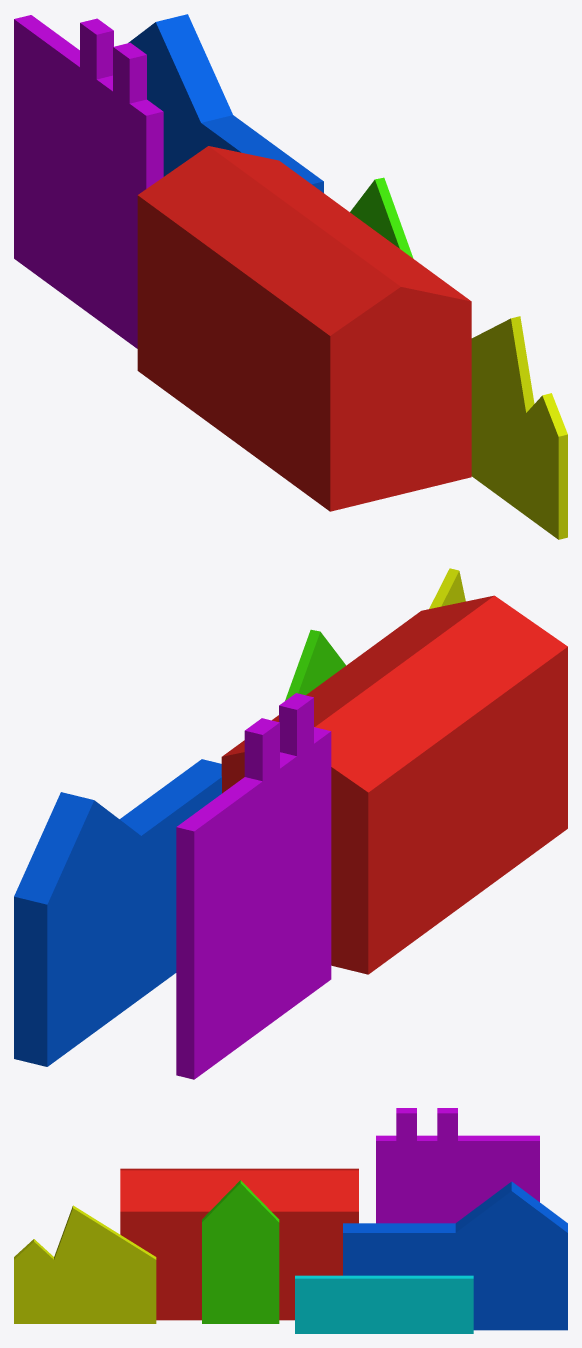
Rendered from Buildings.fbx.
3 renders of one model, top to bottom at view 1: azimuth 30°, elevation 25°; view 2: azimuth 150°, elevation 25°; view 3: azimuth 270°, elevation 25°, orthographic. The views are drawn at different scales.
Parts seen in each view (by area): view 1: Cube; view 2: Cube; view 3: Cube.
Boxes of the visible parts, left/top/right/bottom form: Cube: left=14, top=14, right=567, bottom=539; Cube: left=14, top=568, right=567, bottom=1079; Cube: left=14, top=1108, right=567, bottom=1333.
Bounding box in the file's own units: 3959 × 5783 × 16408.
